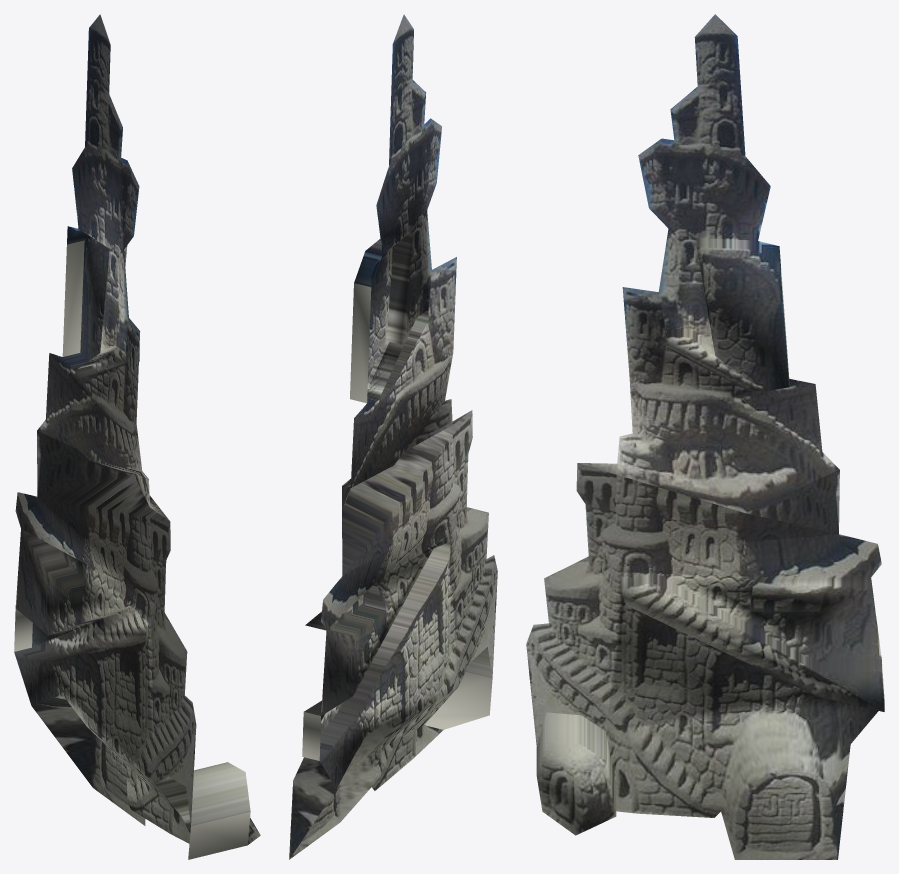
Rendered from castle.fbx.
The picture shows the model from 3 angles, left to right: view 1: azimuth 30°, elevation 25°; view 2: azimuth 150°, elevation 25°; view 3: azimuth 270°, elevation 25°; orthographic projection. The views are drawn at different scales.
Parts seen in each view (by area): view 1: sandCastle; view 2: sandCastle; view 3: sandCastle.
Part boxes in pixels (box(x1,y1,x2,y2)): sandCastle: box(14, 14, 260, 859); sandCastle: box(289, 14, 497, 859); sandCastle: box(526, 14, 884, 859).
Bounding box in the file's own units: 11.96 × 98.37 × 39.01.
